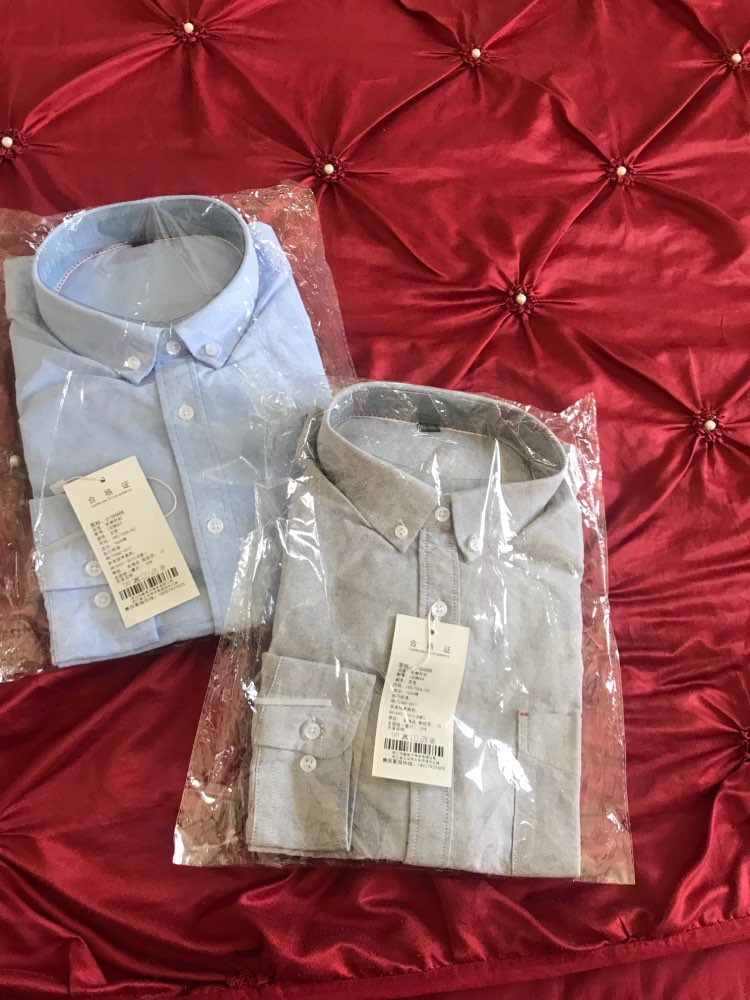shirts: (228, 385, 612, 868), (32, 198, 363, 666)
